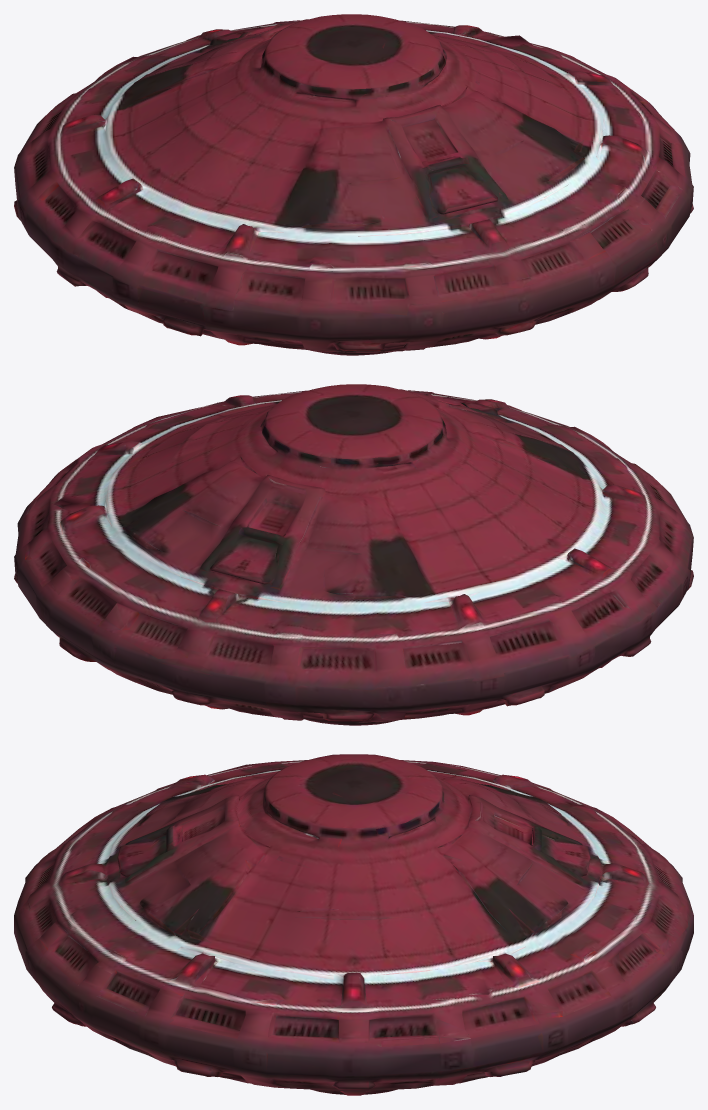
Rendered from nave-nodriza.glb.
3 views of the same model, one above another, from view 1: azimuth 30°, elevation 25°; view 2: azimuth 150°, elevation 25°; view 3: azimuth 270°, elevation 25° (orthographic).
Size of the model in its own units: 1.91 by 0.8728 by 1.91.
Materials: 1 (1 with a texture image).
